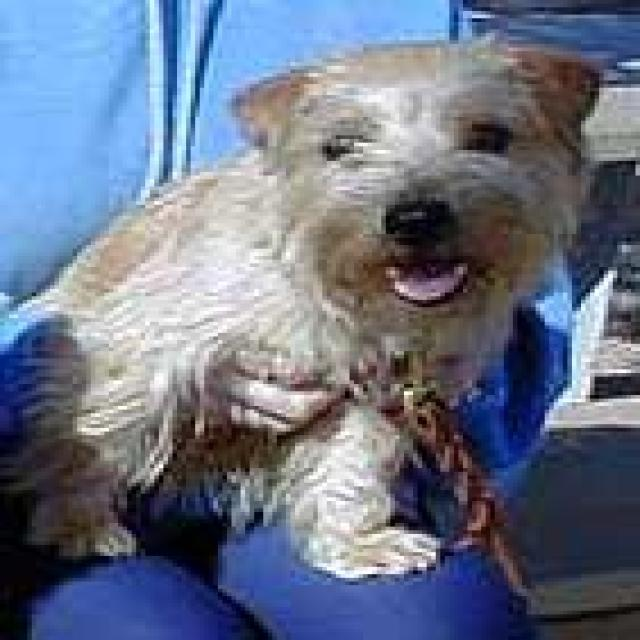dogs: (39, 38, 592, 610)
